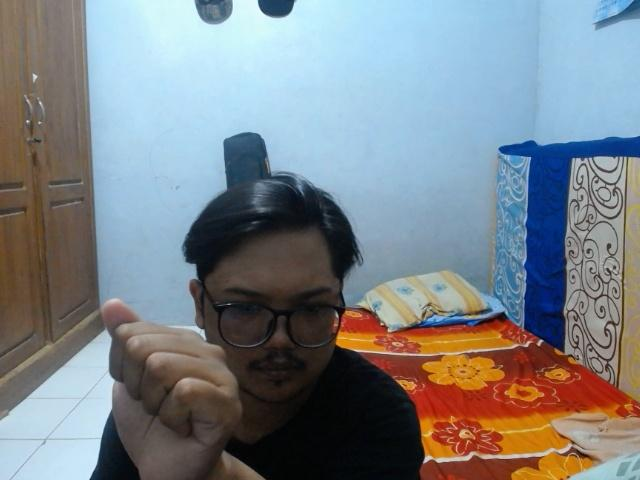Grab: (92, 294, 249, 480)
